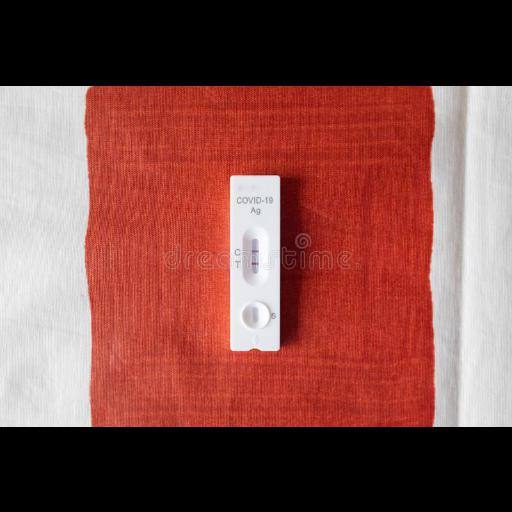Pos: (231, 176, 279, 348)
